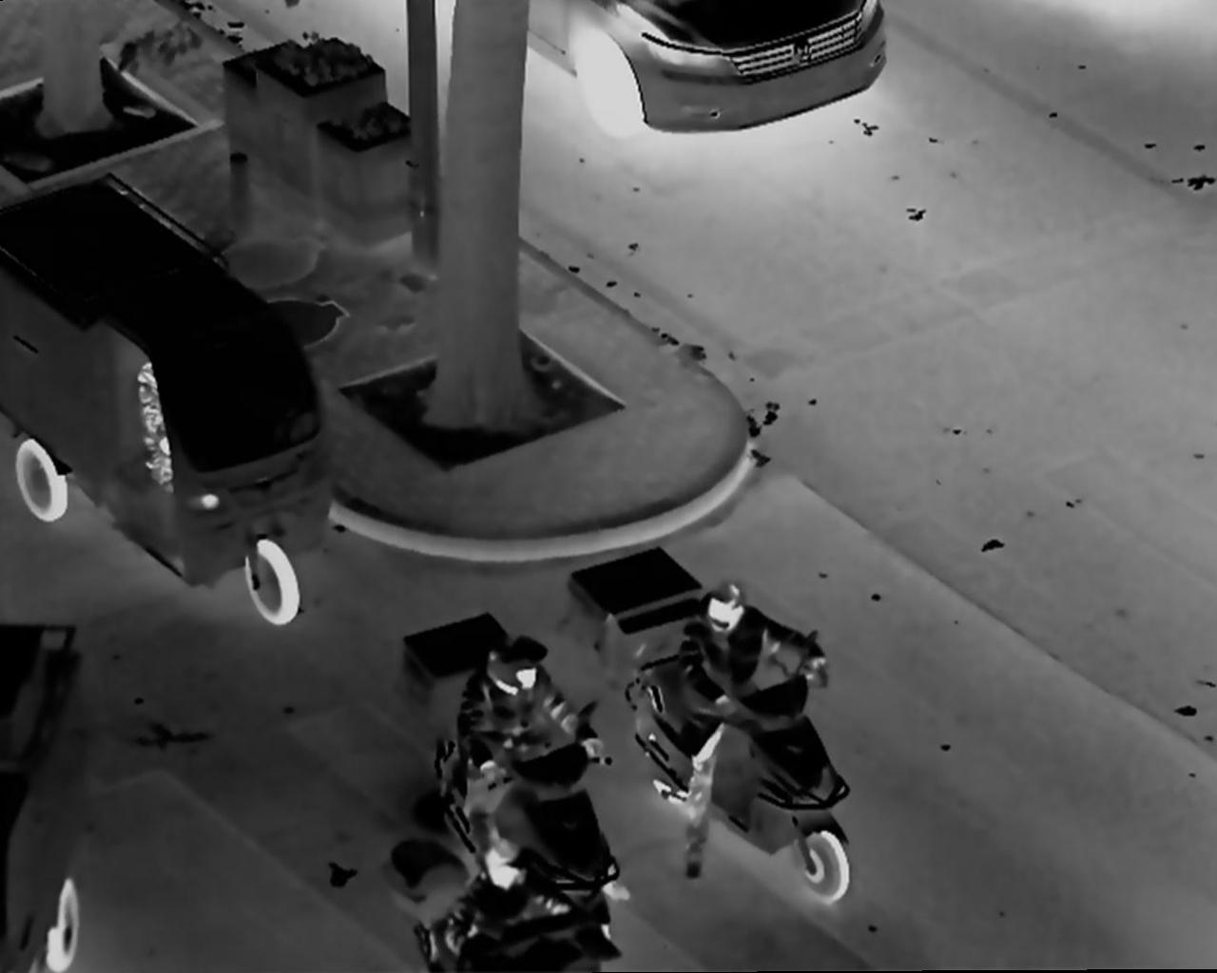person: (677, 579, 824, 882), (451, 633, 604, 897)
